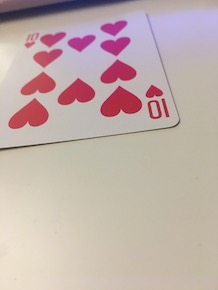TenOfHearts: (1, 9, 181, 148)
